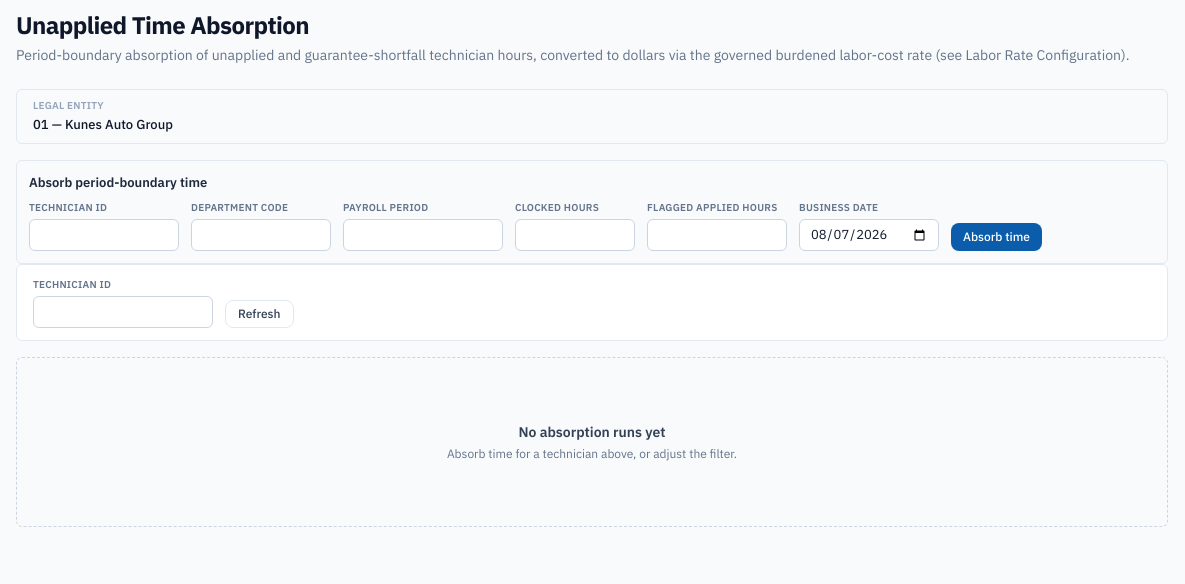
TechTimeAbsorption › shows an explicit RATE_GAP unavailable state — never a fabricated result
The image size is (1185, 584).
Expected: the element with test id "tech-time-absorb-form" is shown, 16,160 -> 1168,264
Type "TECH-X" into the field with test id "absorb-tech-id" at (104, 235), box 29,219 -> 179,251
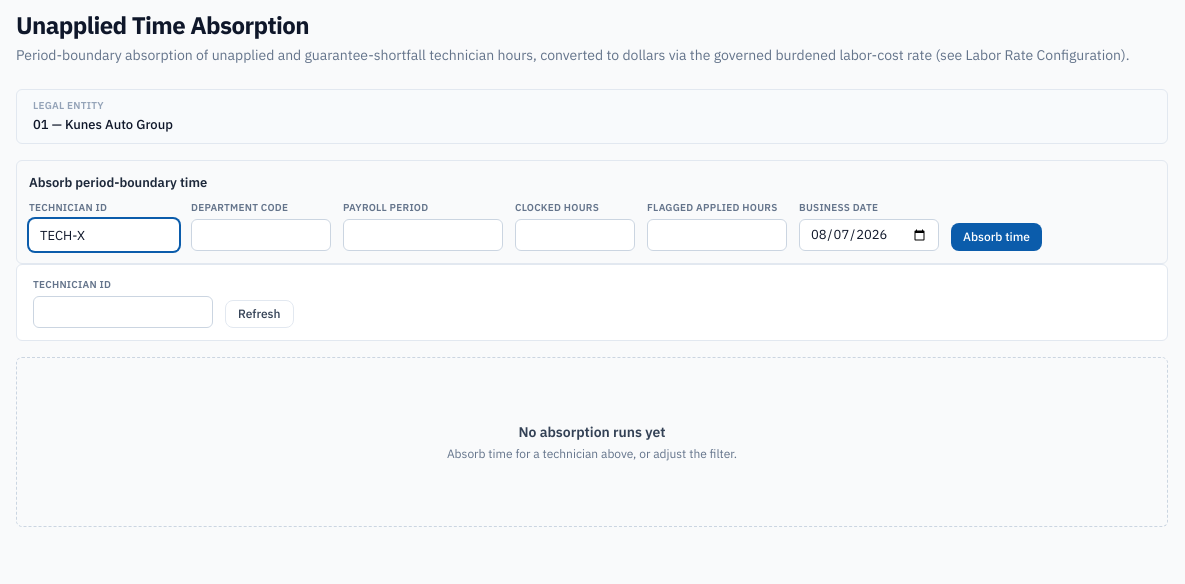
Type "SVC" into the field with test id "absorb-dept-code" at (261, 235), box 191,219 -> 331,251
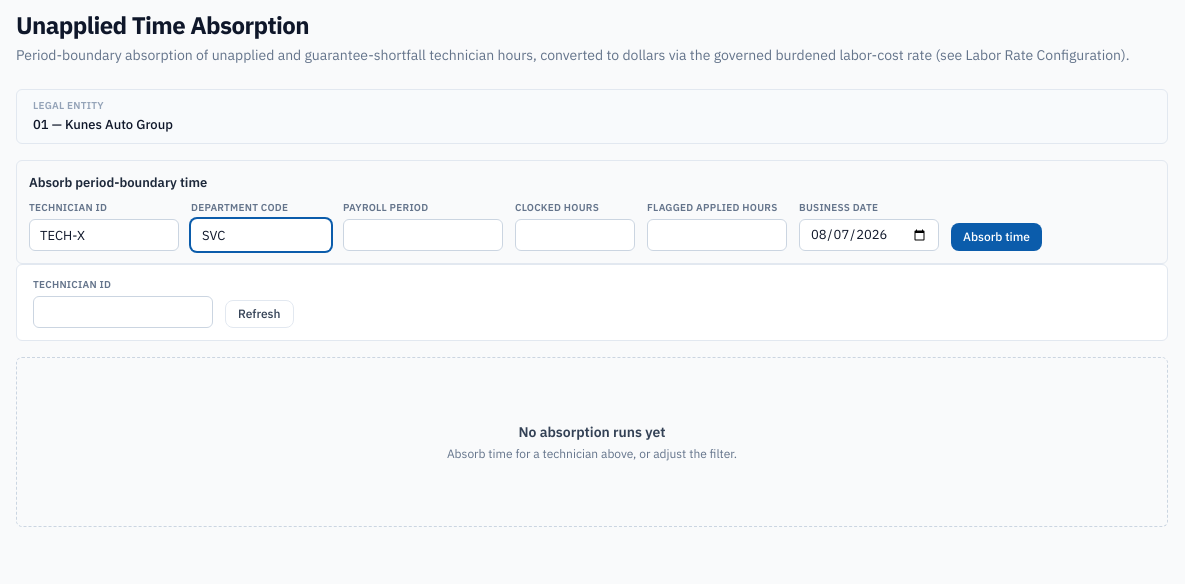
Type "PP-2026-09" into the field with test id "absorb-payroll-period" at (423, 235), box 343,219 -> 503,251
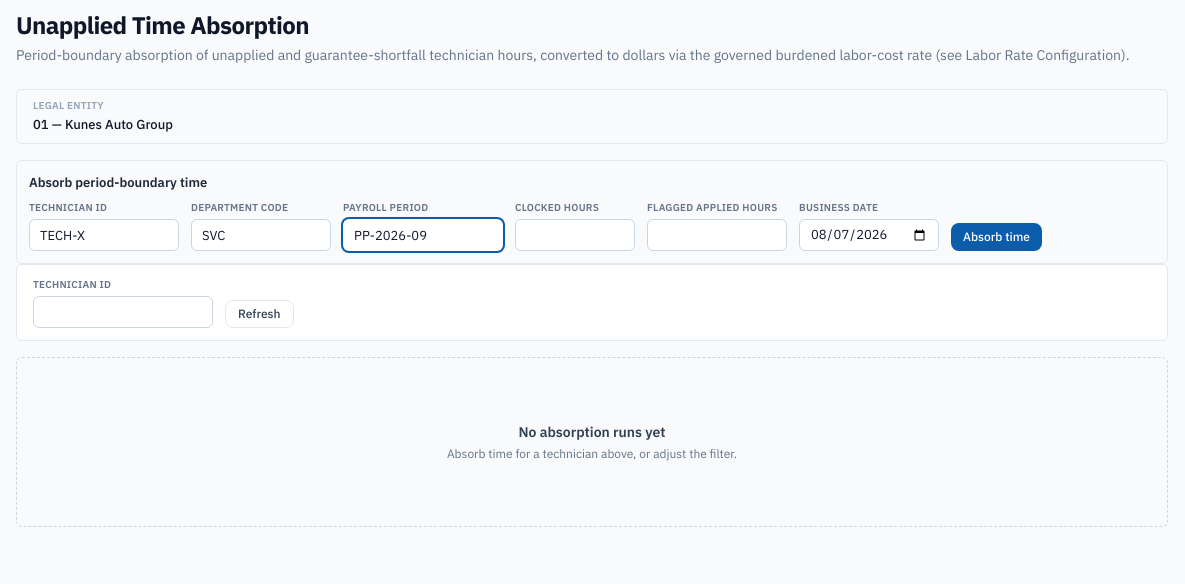
Type "40" into the field with test id "absorb-clocked-hours" at (575, 235), box 515,219 -> 635,251
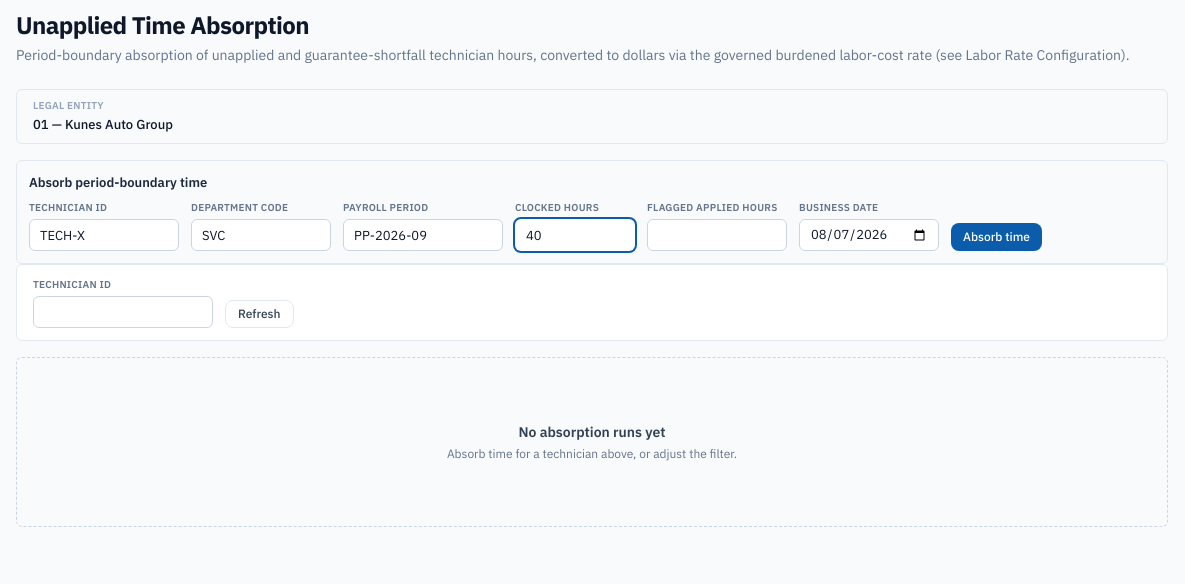
Type "30" into the field with test id "absorb-flagged-hours" at (717, 235), box 647,219 -> 787,251
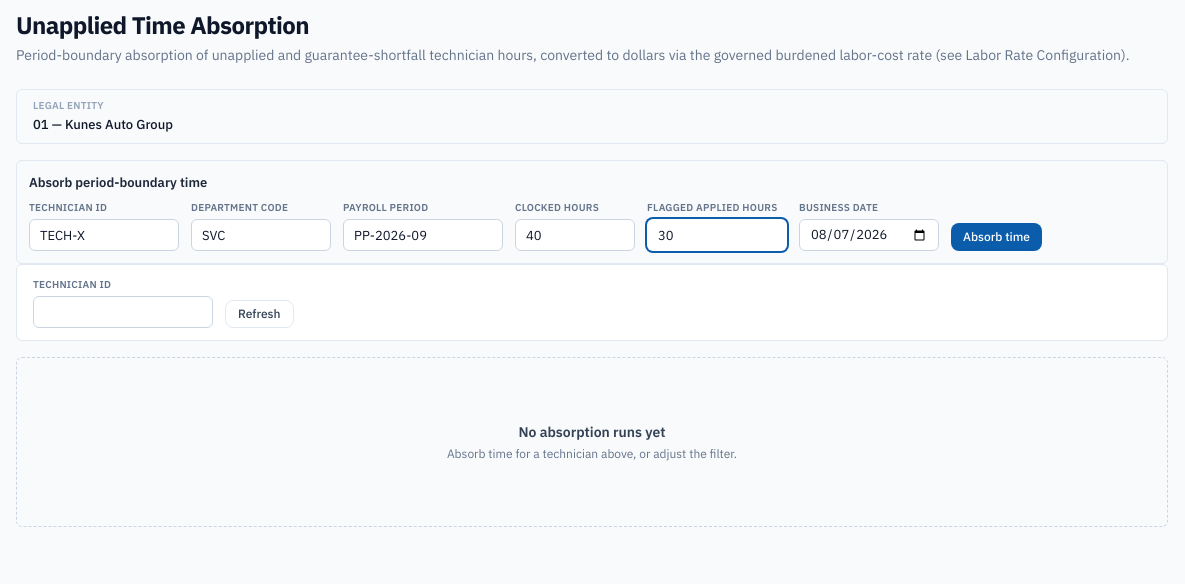
Click the button with test id "absorb-submit" at (996, 237), box 951,223 -> 1042,251
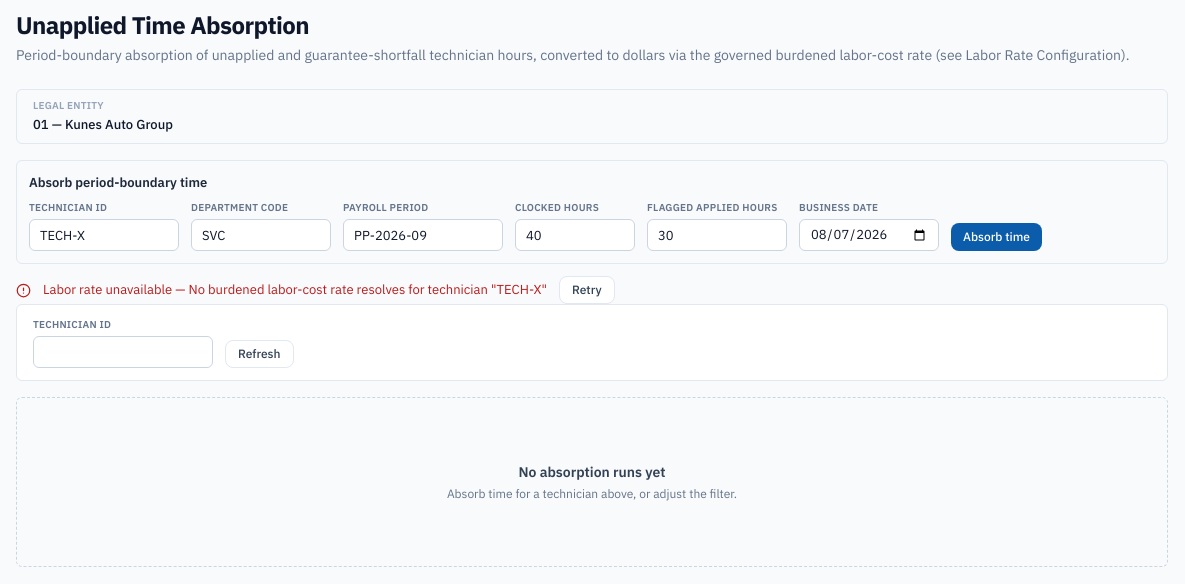
Result: the element with test id "tech-time-rate-gap" is shown at 16,276 -> 615,304
